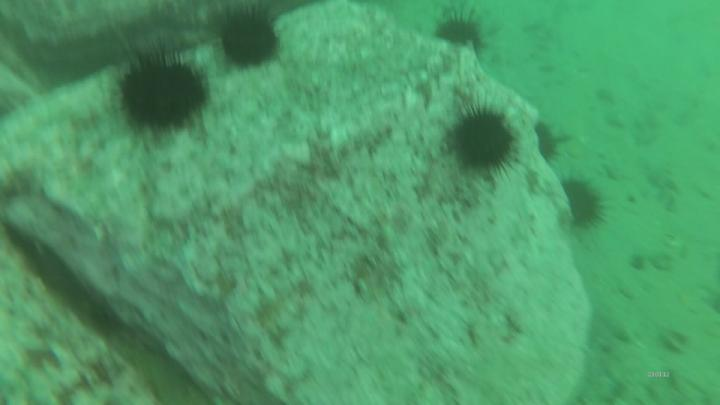echinus: (121, 61, 206, 126), (221, 19, 278, 67), (458, 115, 510, 167), (572, 182, 599, 224), (439, 21, 479, 41)
